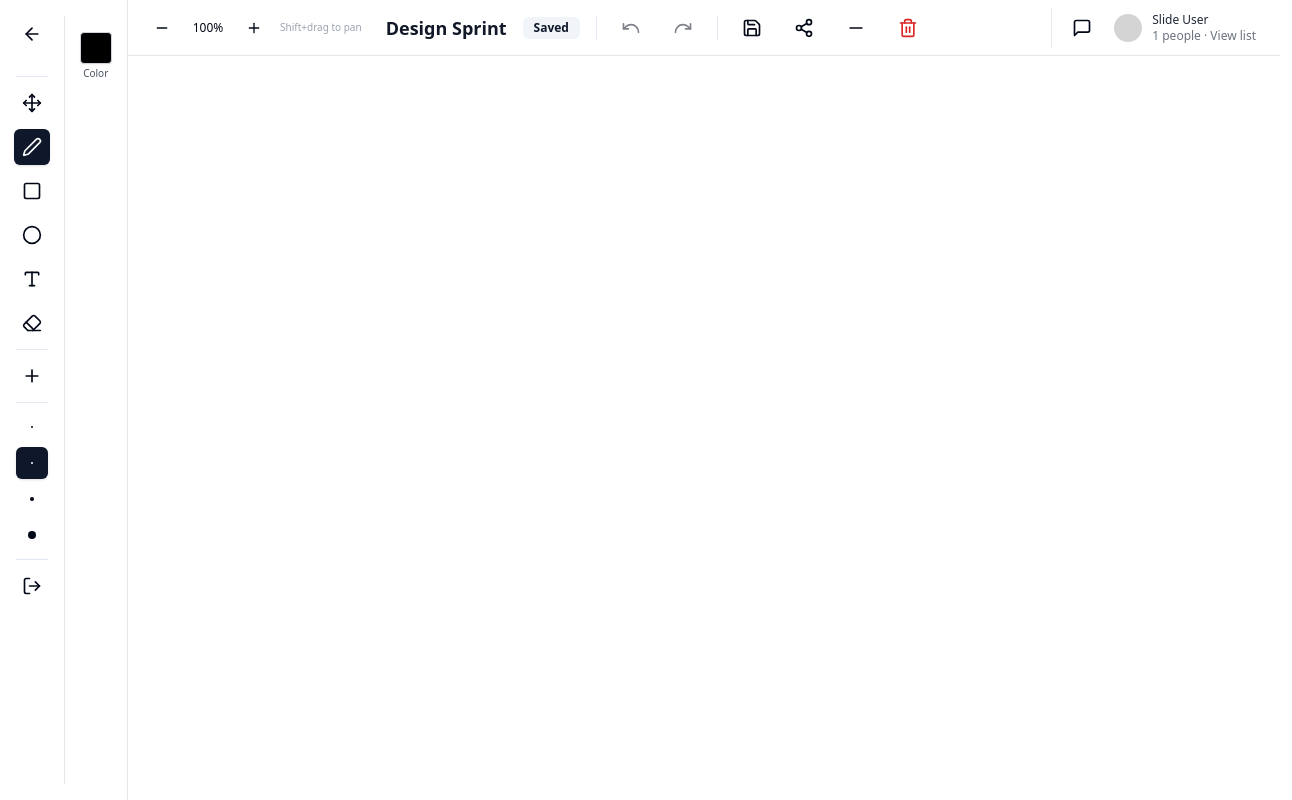
Whiteboard › changes the zoom label when zooming in
Expected: the text "100%" is shown, x1=193 y1=18 x2=223 y2=36
Click the button named "Zoom in".
click(254, 28)  # box x1=236 y1=10 x2=272 y2=46
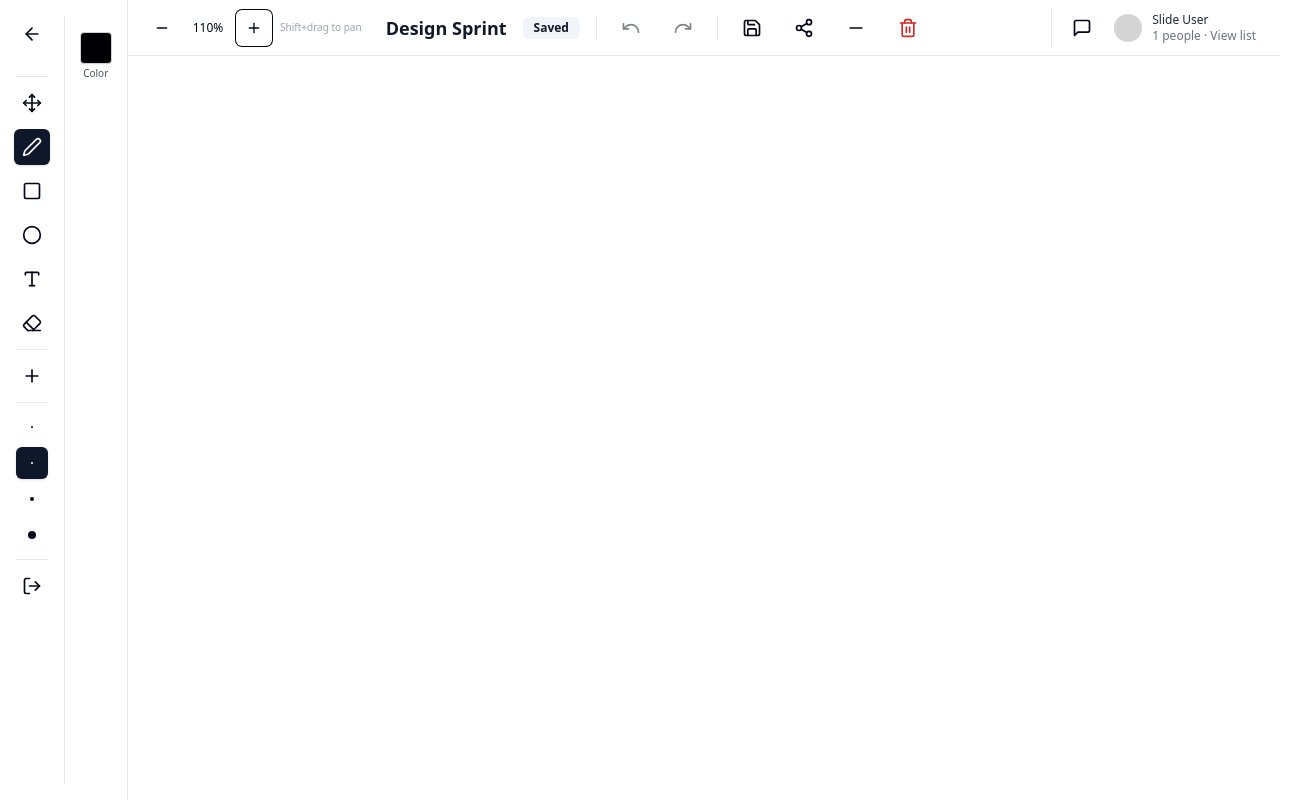
Expected: the text "110%" is shown, x1=193 y1=18 x2=223 y2=36
